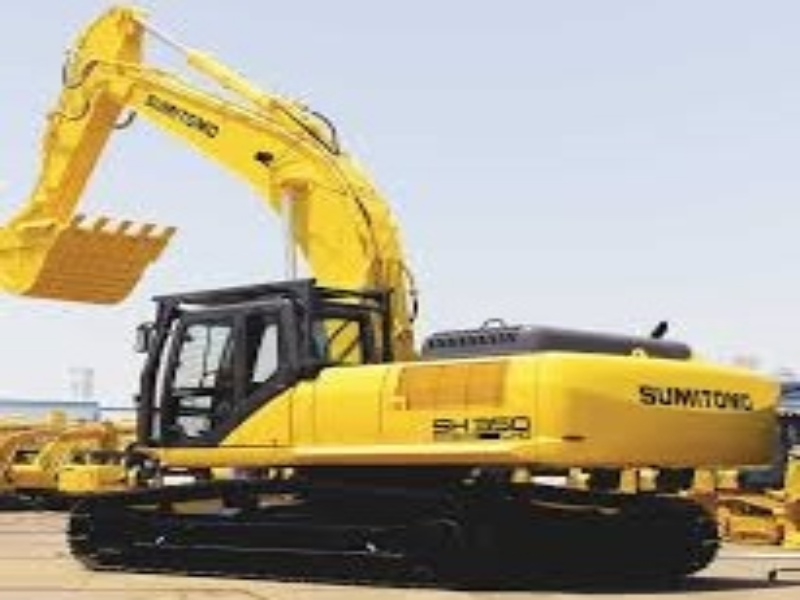wajueji: (41, 187, 795, 600)
